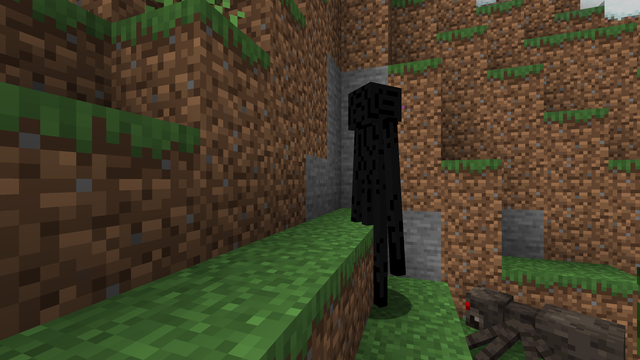araignees: (461, 275, 627, 356)
endermens: (346, 73, 397, 315)
